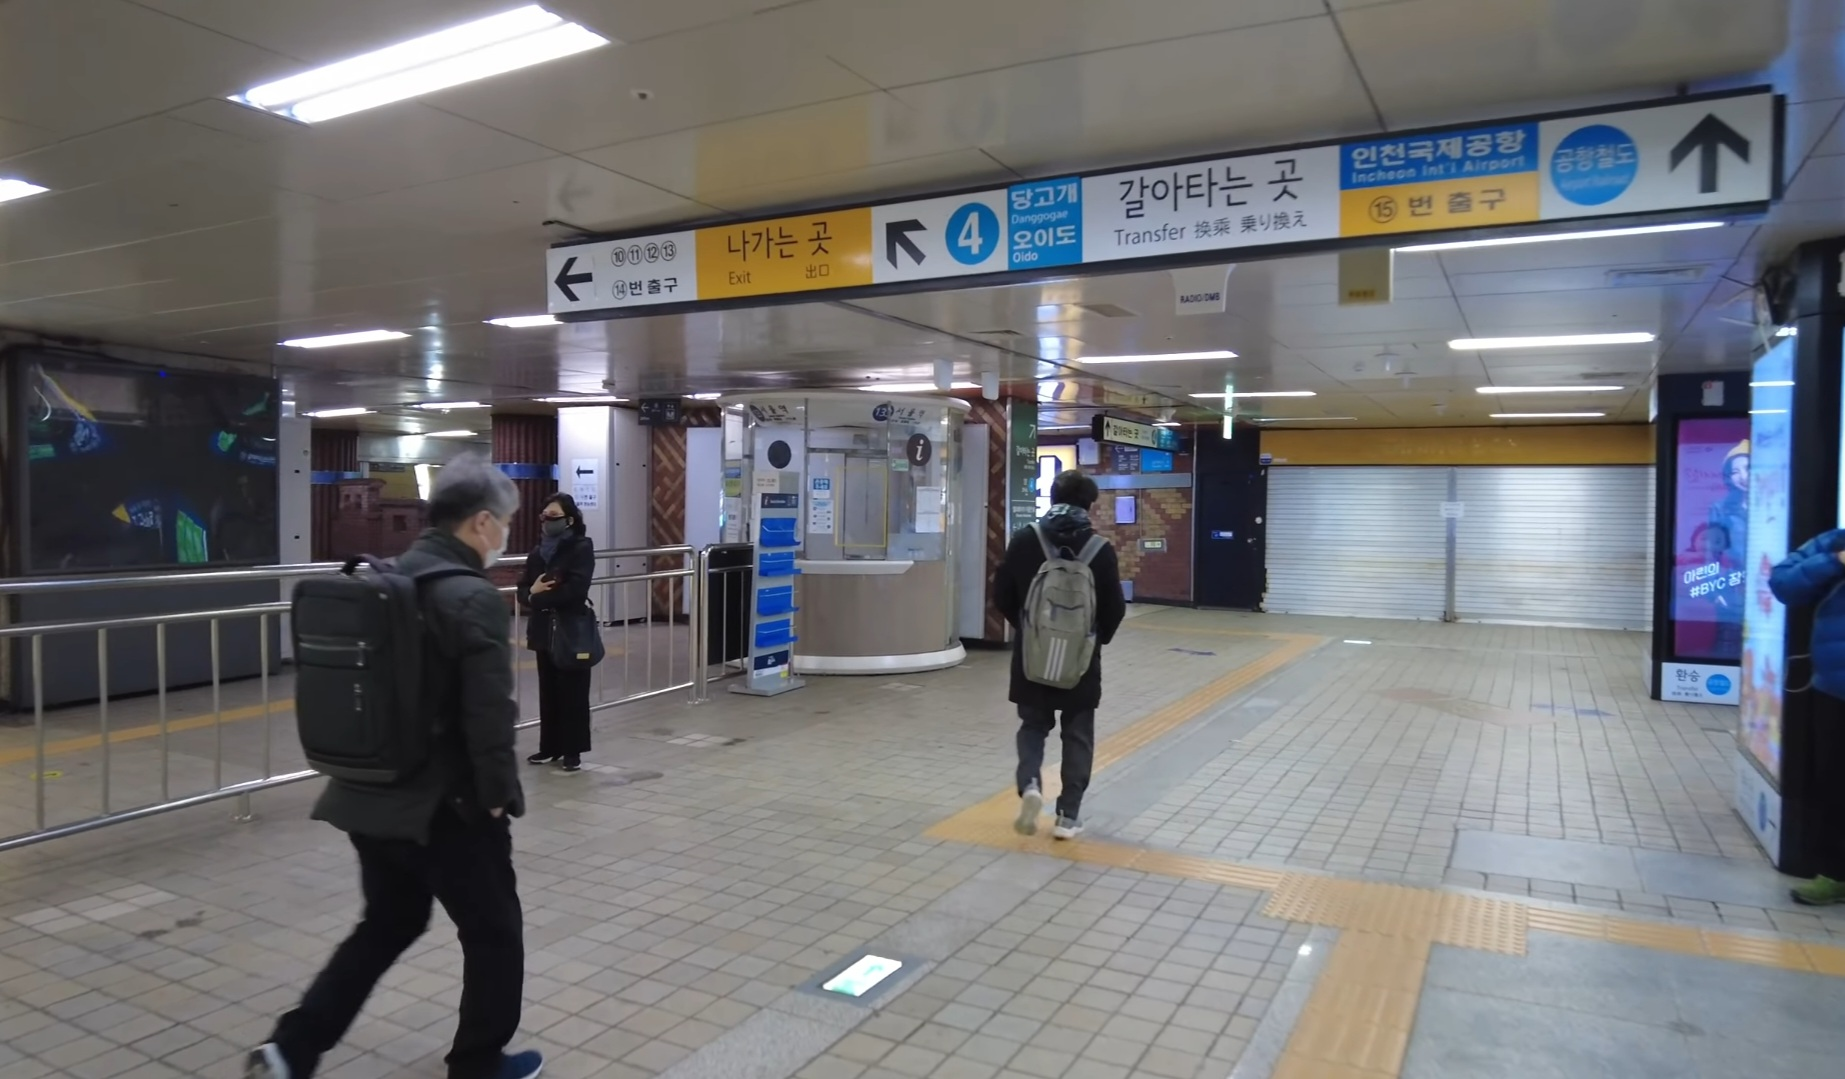signBoard: (547, 68, 1781, 324)
